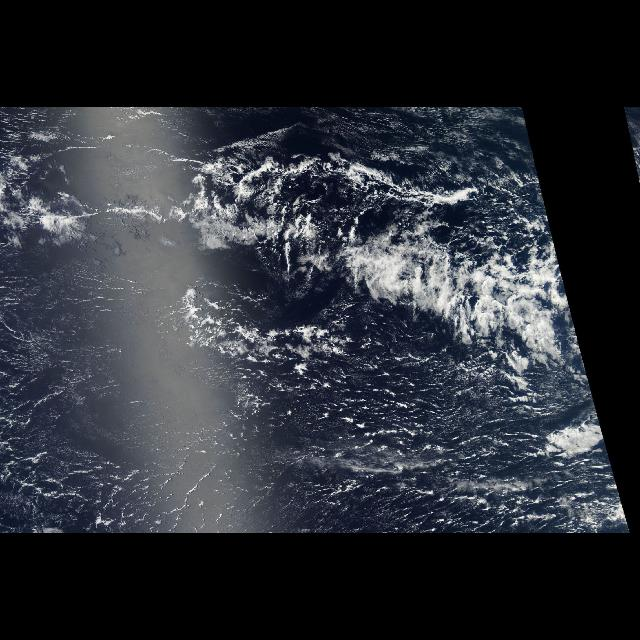Fish: (4, 117, 592, 386)
Gravel: (35, 413, 631, 532)
Sugar: (0, 277, 132, 533)
